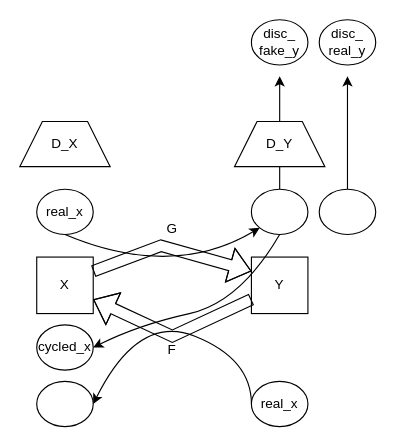
This 396x446 diagram has some shape labels left out. Here are the shapes that lost their labels. From the top down, the box of each, then its label:
(250, 188, 308, 234): fake_x
(318, 188, 376, 234): real_y
(36, 380, 93, 427): same_x
